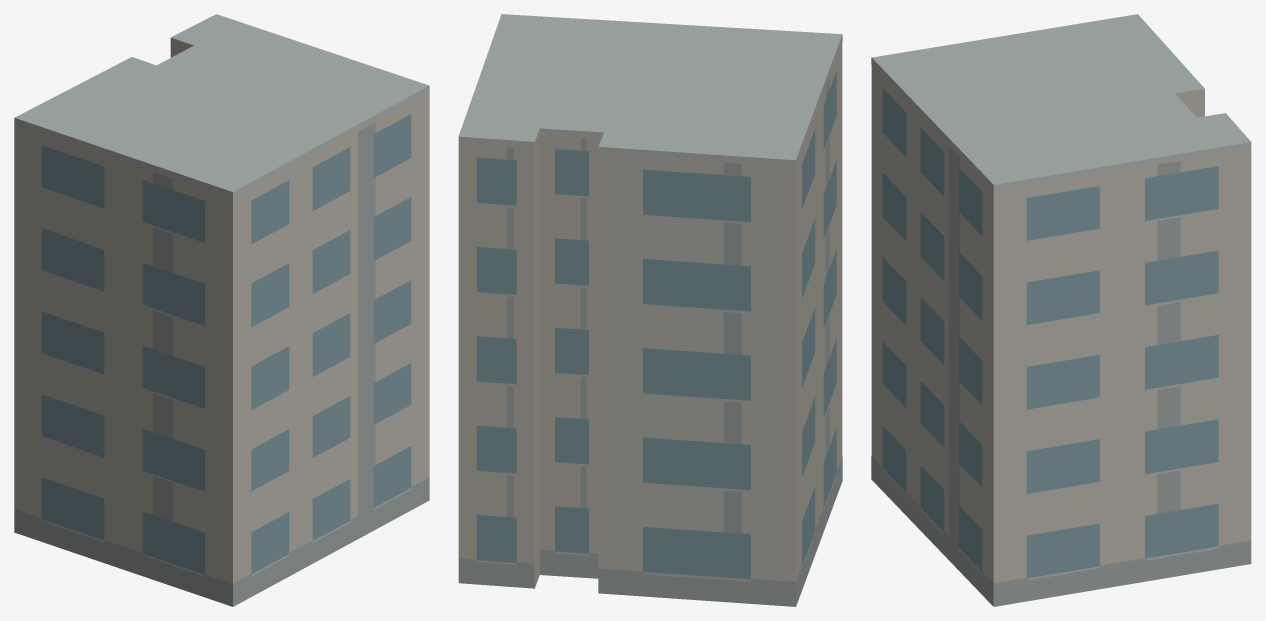
File: survey-upis-32861313.glb
3 renders of one model, left to right at view 1: azimuth 30°, elevation 25°; view 2: azimuth 150°, elevation 25°; view 3: azimuth 270°, elevation 25°, orthographic. The views are drawn at different scales.
Parts seen in each view (by area): view 1: survey-upis-32861313.tmp; view 2: survey-upis-32861313.tmp; view 3: survey-upis-32861313.tmp.
Part boxes in pixels (left/top/right/bottom): survey-upis-32861313.tmp: left=14, top=14, right=429, bottom=606; survey-upis-32861313.tmp: left=458, top=14, right=842, bottom=606; survey-upis-32861313.tmp: left=871, top=14, right=1251, bottom=606.
Bounding box in the file's own units: 12.69 × 14.6 × 11.92.
